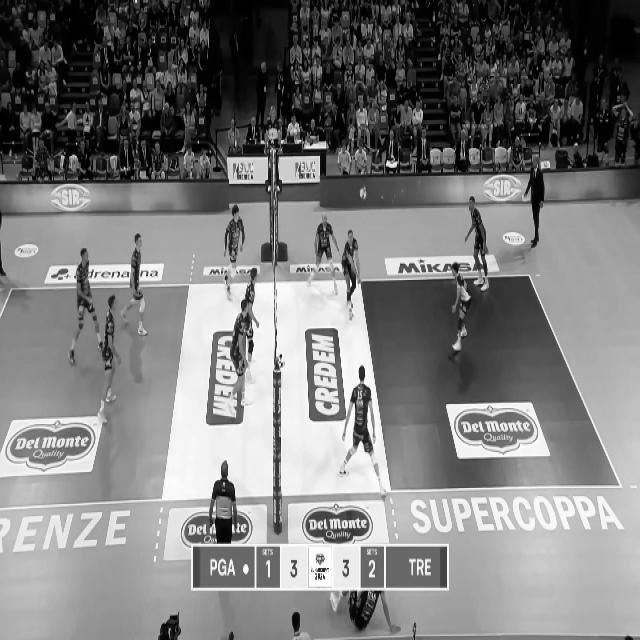volleyball court: (0, 272, 621, 506)
